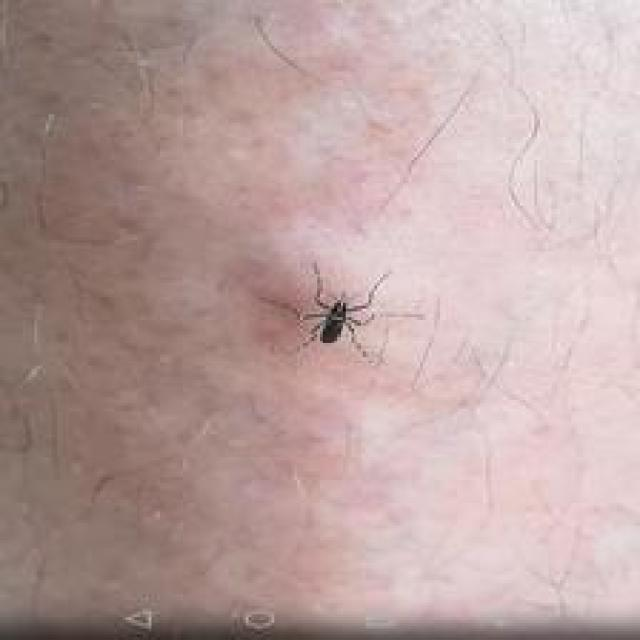Aedes albopictus: (297, 261, 392, 356)
